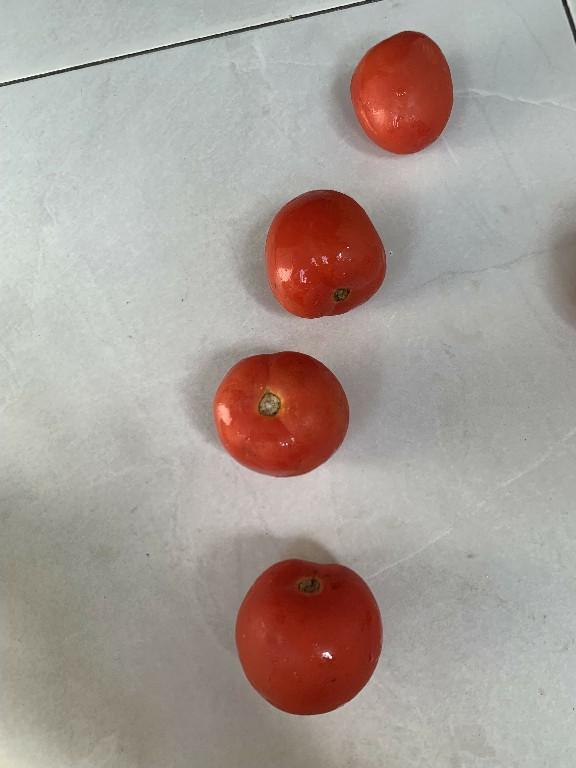OK: (230, 554, 387, 719), (204, 347, 362, 485), (260, 184, 398, 323), (348, 29, 458, 163)
